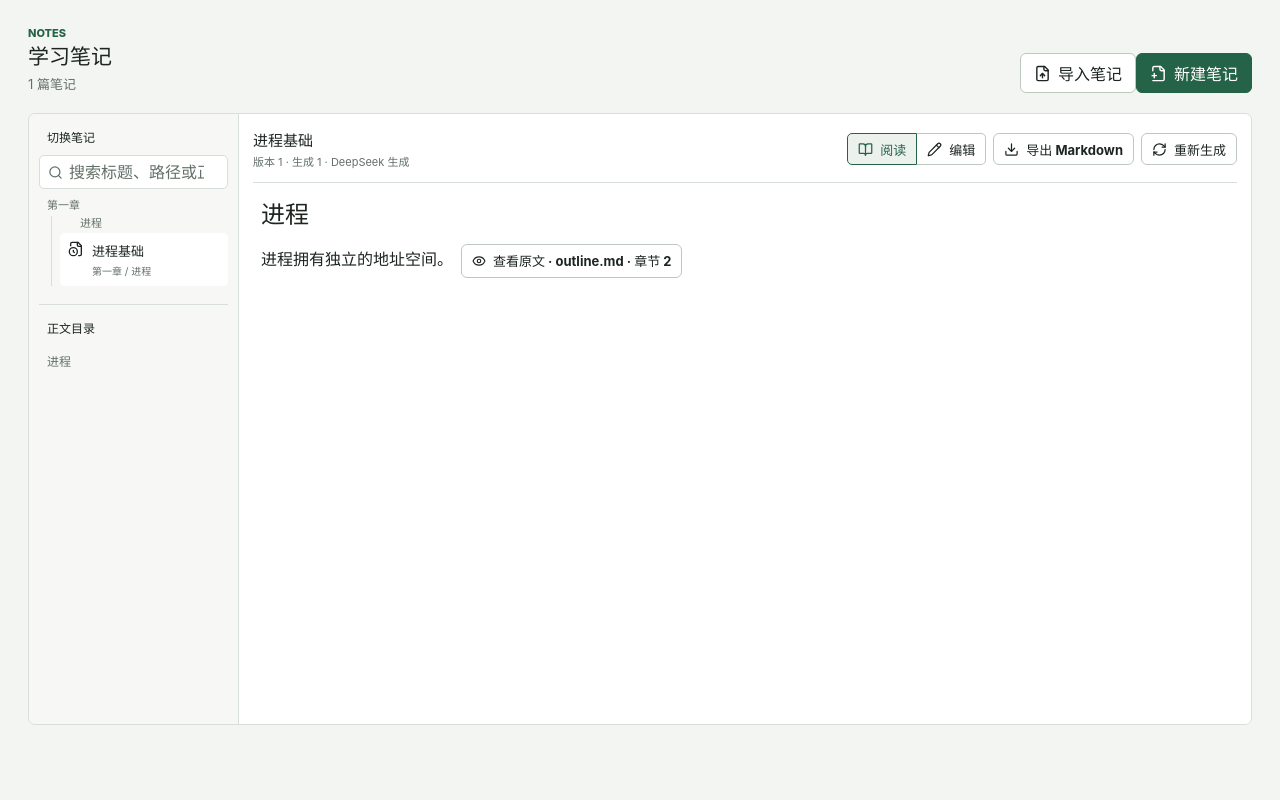
Test case: NotesPage › opens an active Markdown note source at its validated section
The image size is (1280, 800).
Click the button "查看原文 · outline.md · 章节 2" at (572, 261), box [461,244,682,278]
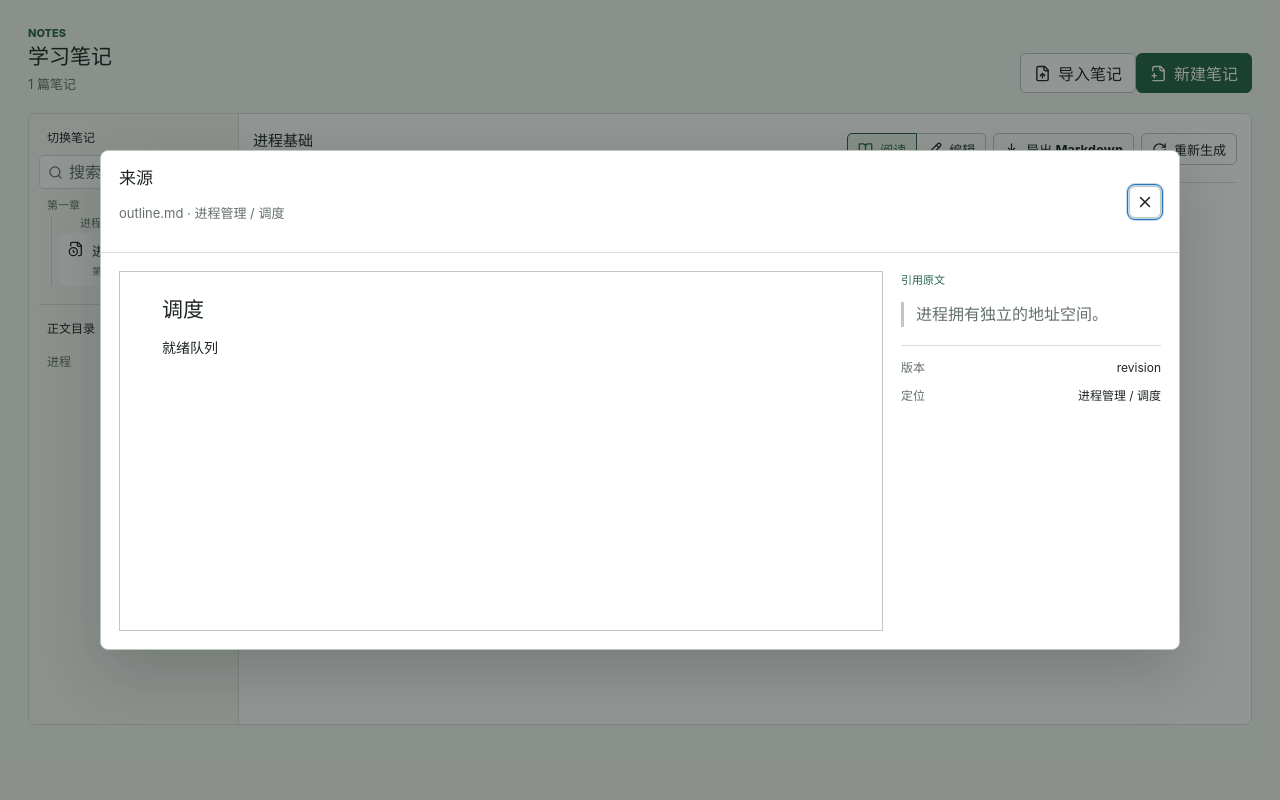
Expected: the heading "调度" is shown, [162,297,204,322]
Expected: the text "进程管理 / 调度" is shown, [1078,386,1161,406]
